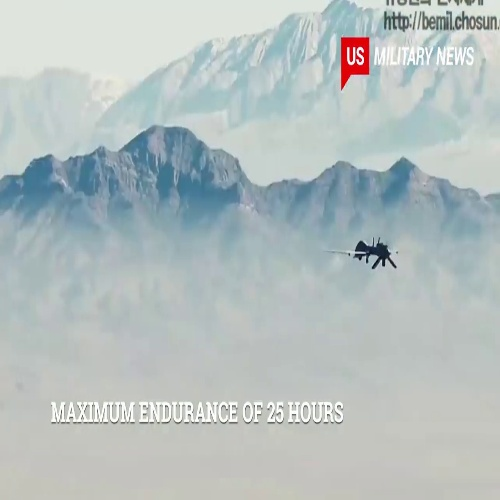uav: (320, 234, 402, 272)
